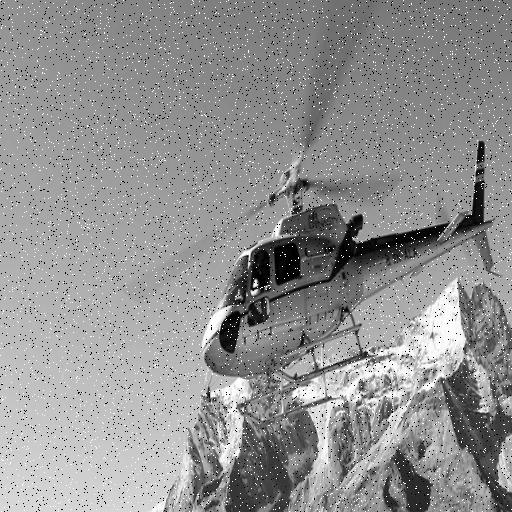helicopter: (122, 1, 505, 419)
